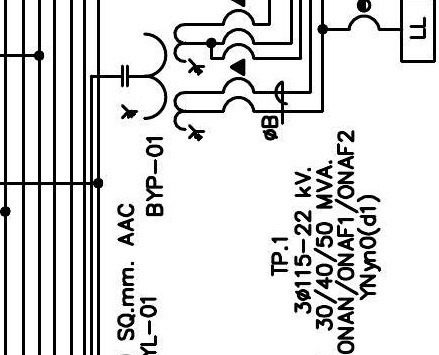115_cvt_3p: (121, 22, 206, 142)
